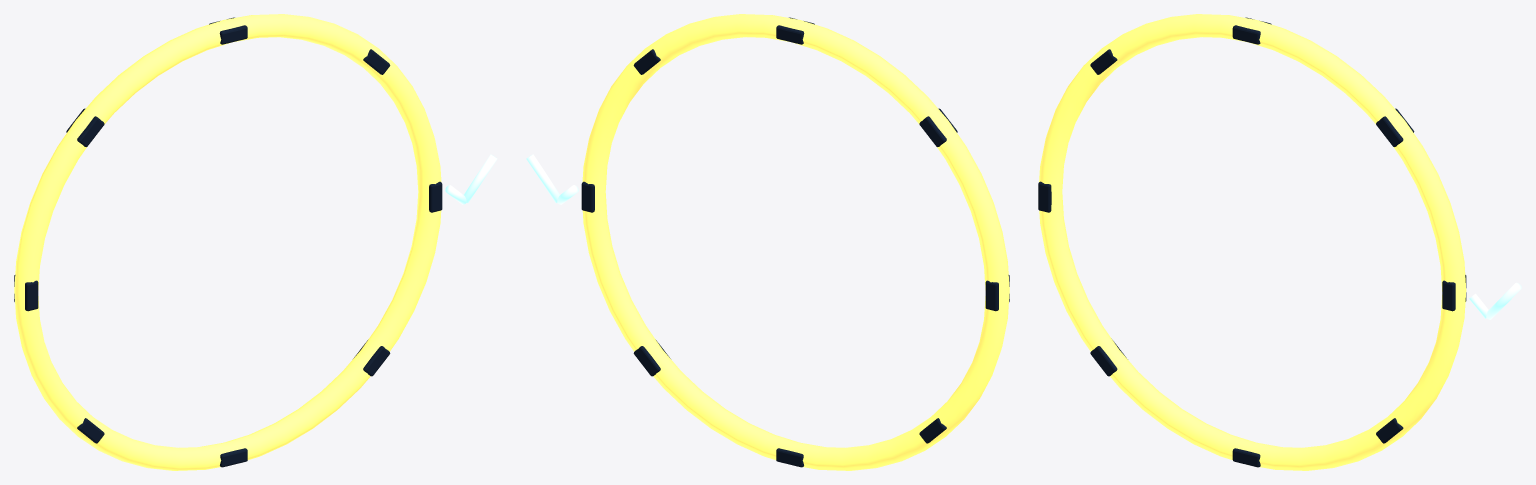
File: ring.glb
3 views of the same model, side by side, from view 1: azimuth 30°, elevation 25°; view 2: azimuth 150°, elevation 25°; view 3: azimuth 330°, elevation 25° (orthographic).
Parts seen in each view (by area): view 1: RingHoop; view 2: RingHoop; view 3: RingHoop.
Part boxes in pixels (x1,y1,x2,y2): RingHoop: (14,14,441,470); RingHoop: (582,14,1009,470); RingHoop: (1039,14,1466,470).
Bounding box in the file's own units: 7.15 × 6.32 × 0.35.
